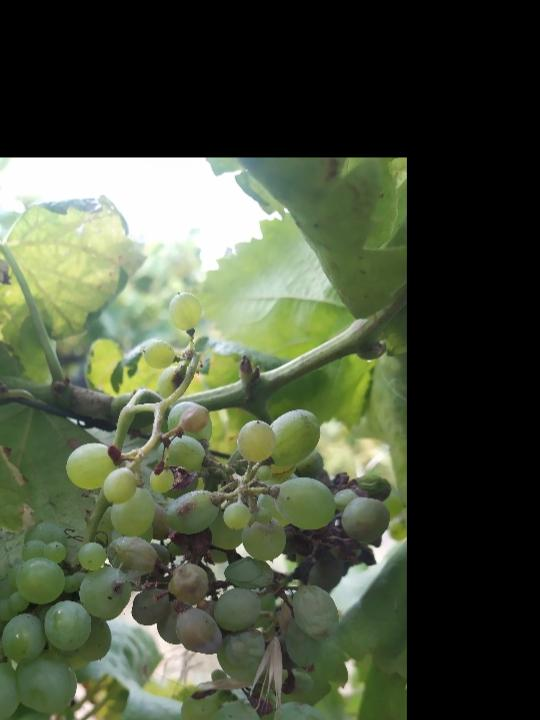grape: (63, 398, 394, 720)
